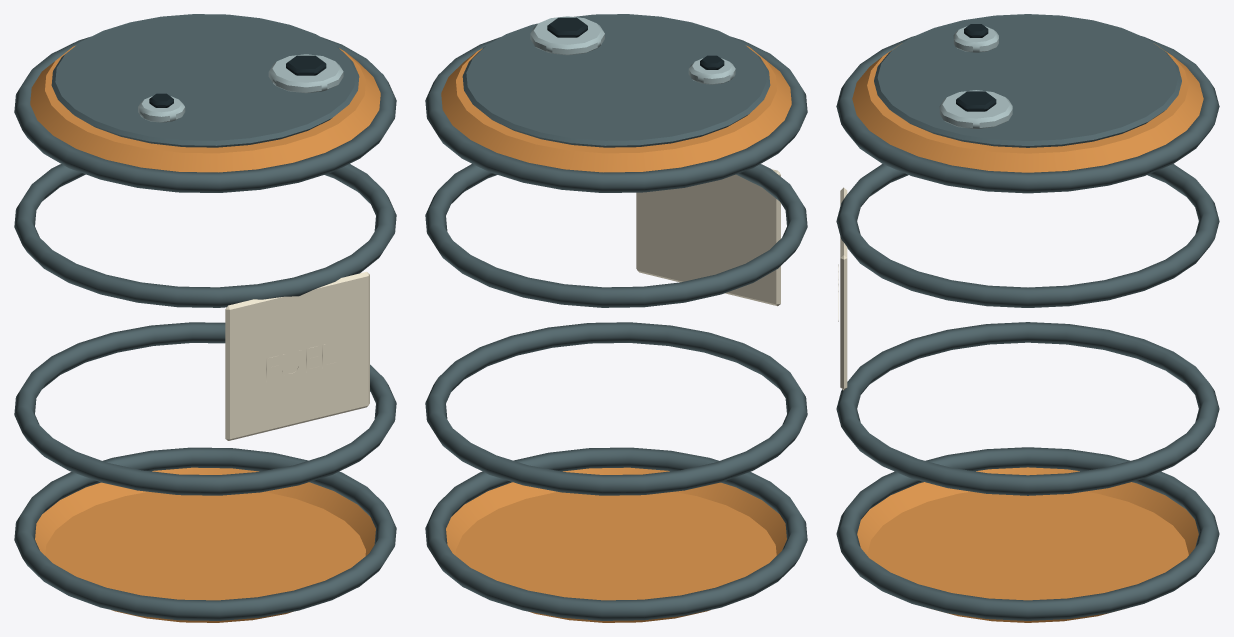
Rendered from fuel-drum.high.glb.
3 renders of one model, left to right at view 1: azimuth 30°, elevation 25°; view 2: azimuth 150°, elevation 25°; view 3: azimuth 270°, elevation 25°, orthographic.
Parts seen in each view (by area): view 1: geometry:body:4, geometry:body:3, geometry:body:2, geometry:body:0, geometry:body:1; view 2: geometry:body:4, geometry:body:3, geometry:body:2, geometry:body:0, geometry:body:1; view 3: geometry:body:4, geometry:body:3, geometry:body:0, geometry:body:2, geometry:body:1.
Part boxes in pixels (x1=…): geometry:body:4: x1=14, y1=14, x2=396, y2=620; geometry:body:3: x1=30, y1=45, x2=380, y2=622; geometry:body:2: x1=225, y1=271, x2=369, y2=440; geometry:body:0: x1=138, y1=54, x2=343, y2=122; geometry:body:1: x1=149, y1=55, x2=326, y2=107; geometry:body:4: x1=425, y1=14, x2=807, y2=620; geometry:body:3: x1=441, y1=45, x2=791, y2=622; geometry:body:2: x1=636, y1=169, x2=780, y2=306; geometry:body:0: x1=530, y1=16, x2=735, y2=84; geometry:body:1: x1=547, y1=17, x2=724, y2=69; geometry:body:4: x1=836, y1=14, x2=1219, y2=620; geometry:body:3: x1=852, y1=43, x2=1203, y2=622; geometry:body:0: x1=939, y1=26, x2=1012, y2=128; geometry:body:2: x1=838, y1=187, x2=847, y2=390; geometry:body:1: x1=956, y1=24, x2=996, y2=111.
Bounding box in the file's own units: 0.666 × 0.946 × 0.666.
